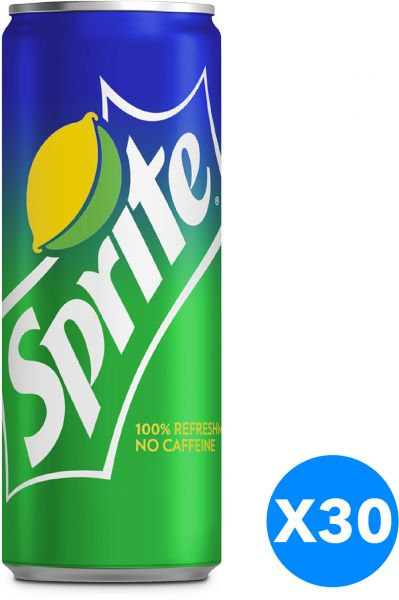sprite: (6, 131, 211, 465), (8, 131, 211, 465)
